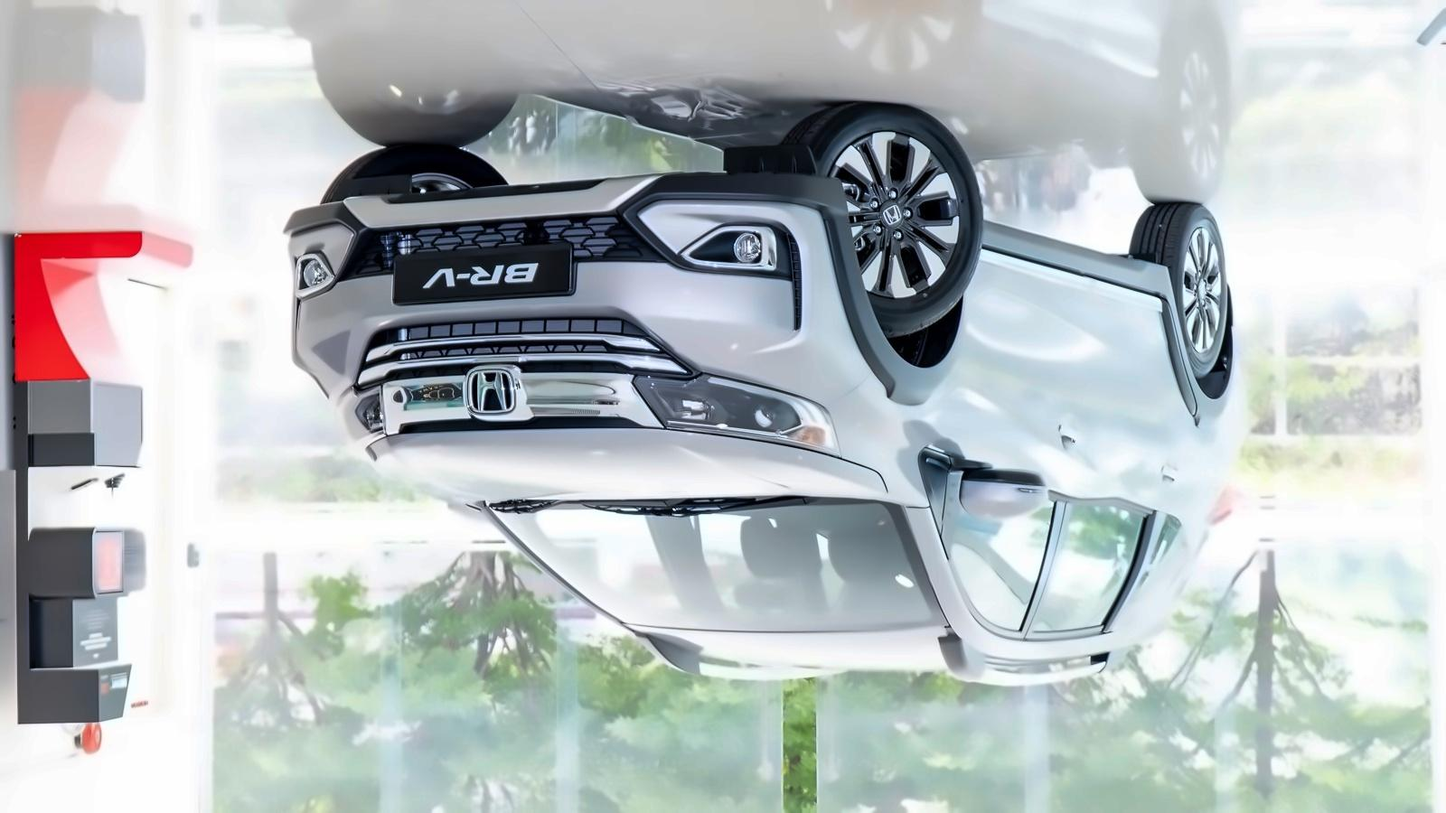Car hood: (362, 426, 896, 511)
Driver-s door - -F-R-: (948, 231, 1080, 646)
Fender - -F-R-: (832, 234, 967, 515)
Fender - -R-R-: (1180, 322, 1225, 492)
Front bumper: (277, 167, 887, 393)
Headlight - -L-: (330, 380, 399, 457)
Headlight - -R-: (622, 365, 846, 463)
Passenger-s door - -R-R-: (1047, 262, 1186, 642)
Rear light - -R-: (1199, 474, 1241, 537)
Side bumper - -R-: (978, 215, 1180, 307)
Side mirror - -L-: (435, 488, 498, 533)
Side mirror - -R-: (933, 447, 1056, 526)
